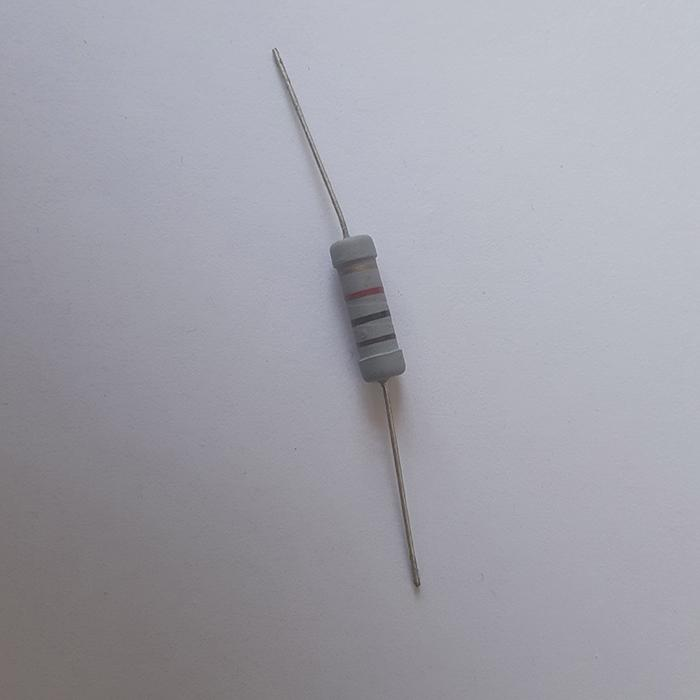resistor: (329, 231, 407, 384)
